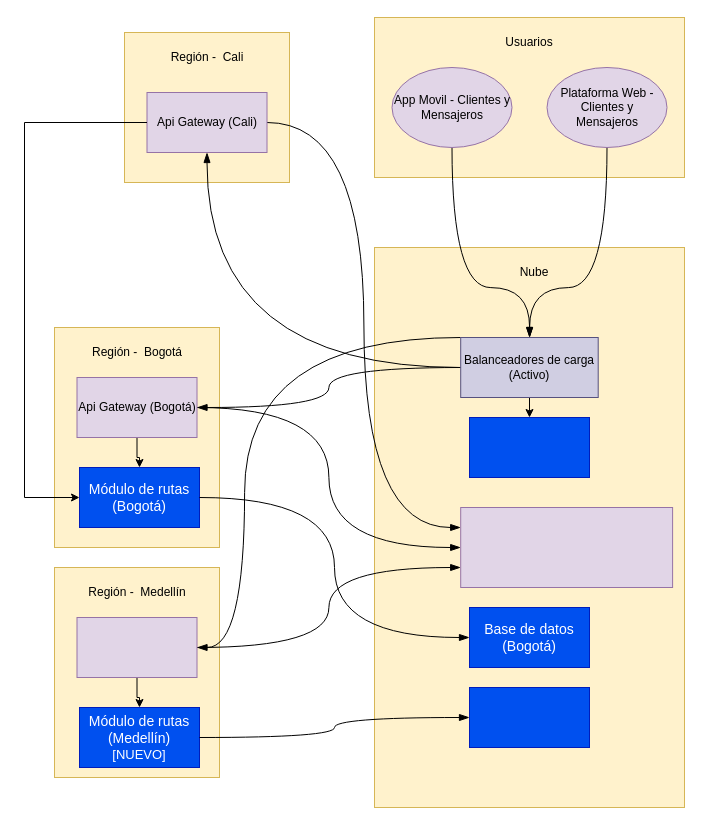
Image size: 702x825. Some labels were removed from this diagram. The shapes that lost their labels are listed below. From the top down, each one's box as (x1, y1, x2, y2) in pixels, then its label:
(468, 416, 590, 478): Balanceadores de carga (Pasivo) [NUEVO]
(460, 506, 673, 588): Servicio de Monitoreo y Alertas (Servicio manejado = Autoescalamiento)
(76, 616, 197, 678): Api Gateway (Medellín)
(468, 686, 590, 748): Base de datos ( Medellín ) [NUEVO]
